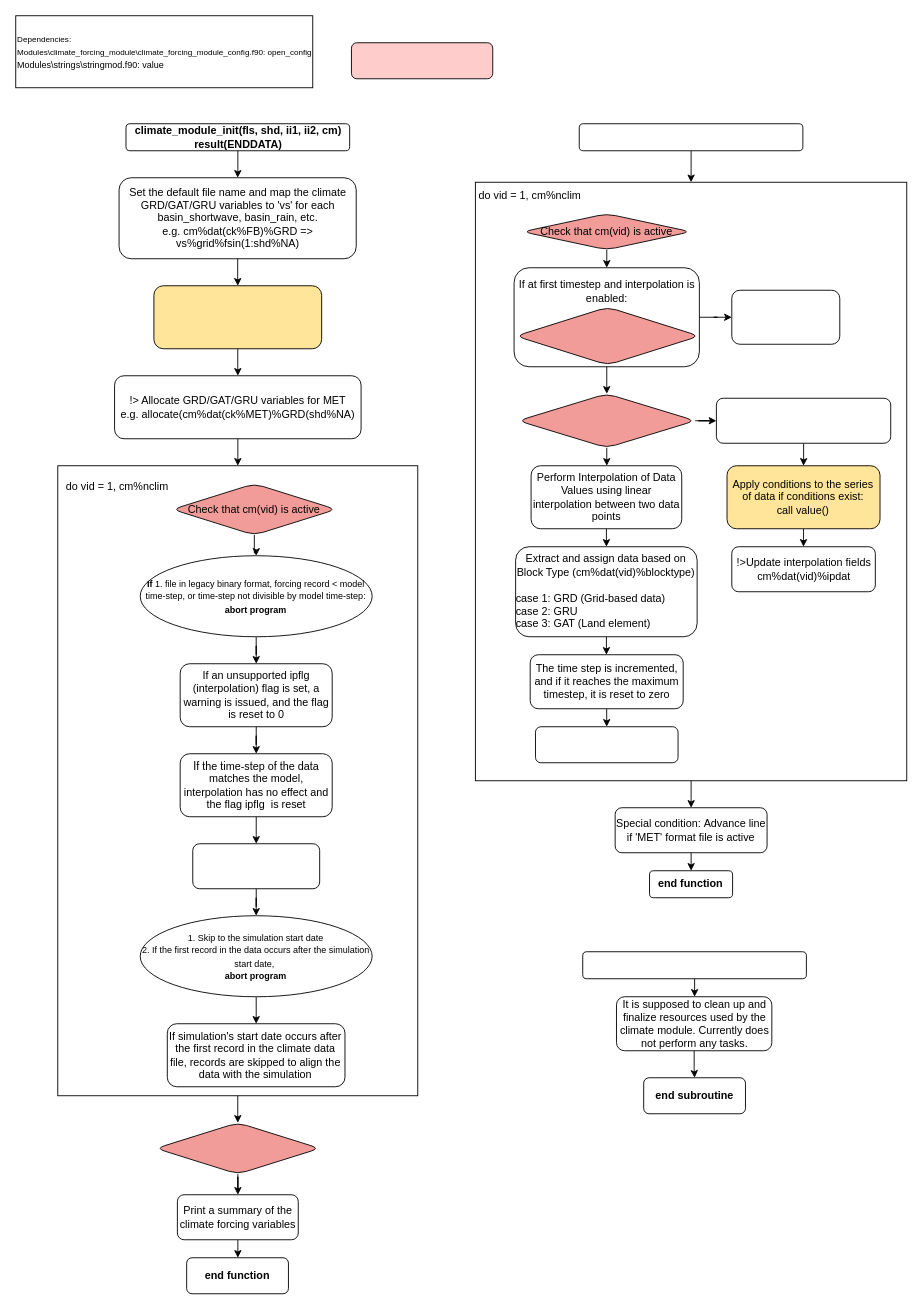
The diagram is 923 pixels wide and 1310 high, and some of its shapes have lost their labels. Here are the shapes that lost their labels. From the top down, the centre of each, then its label:
At point (422, 60): "climate_forcing_module.f90".
At point (690, 137): "climate_module_update_data(fls, shd, ii1, ii2, cm)".
At point (237, 317): "!> Read from file to override default configuration call open_config(cm)".
At point (607, 335): "if (ic%ts_count == 1 .and. cm%dat(vid)%ipflg == 1)".
At point (785, 316): "Read an additional frame and update input fonrcing data".
At point (606, 420): "if (cm%dat(vid)%itimestep == 0)".
At point (803, 420): "Read and update data from the input forcing file via the update_data function".
At point (606, 744): "Advance to the Next Data Block (if needed)".
At point (256, 866): "Activate fields for INTERPOLATIONFLAG".
At point (694, 965): "climate_module_finalize(fls, shd, cm)".
At point (237, 1148): "if (DIAGNOSEMODE)".
